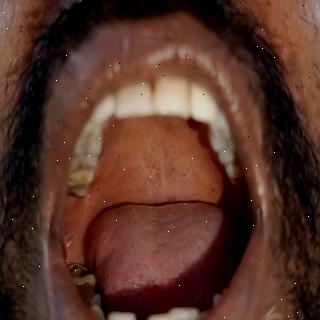cavities: (68, 260, 86, 281)
